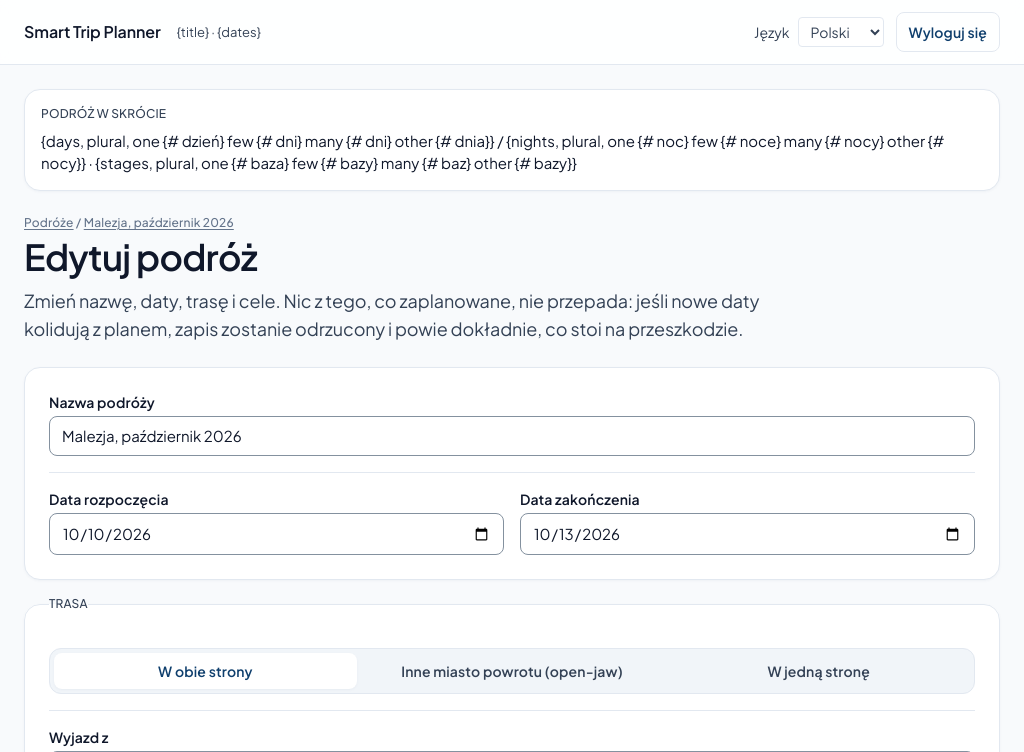
saving › returns to the timeline once the save lands
This screenshot has width=1024, height=752.
In the field labelled "Nazwa podróży": [512, 436] box [49,416,975,456], type "!"
(page scrolled)
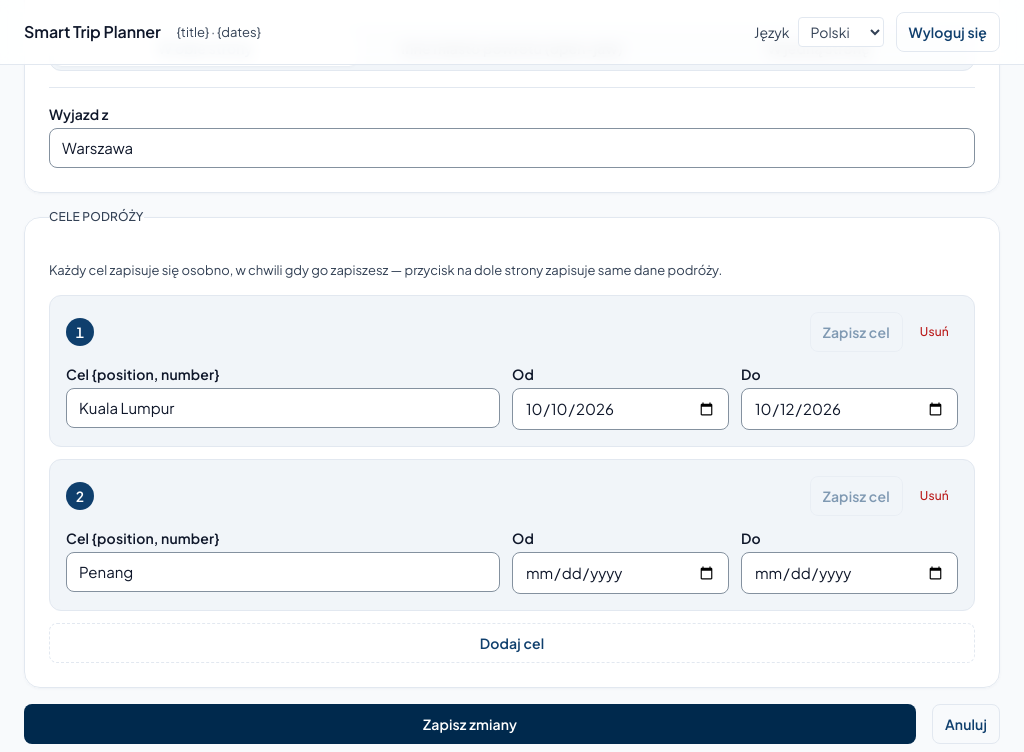
Click the button "Zapisz zmiany": [470, 724] box [24,704,916,744]
(page scrolled)
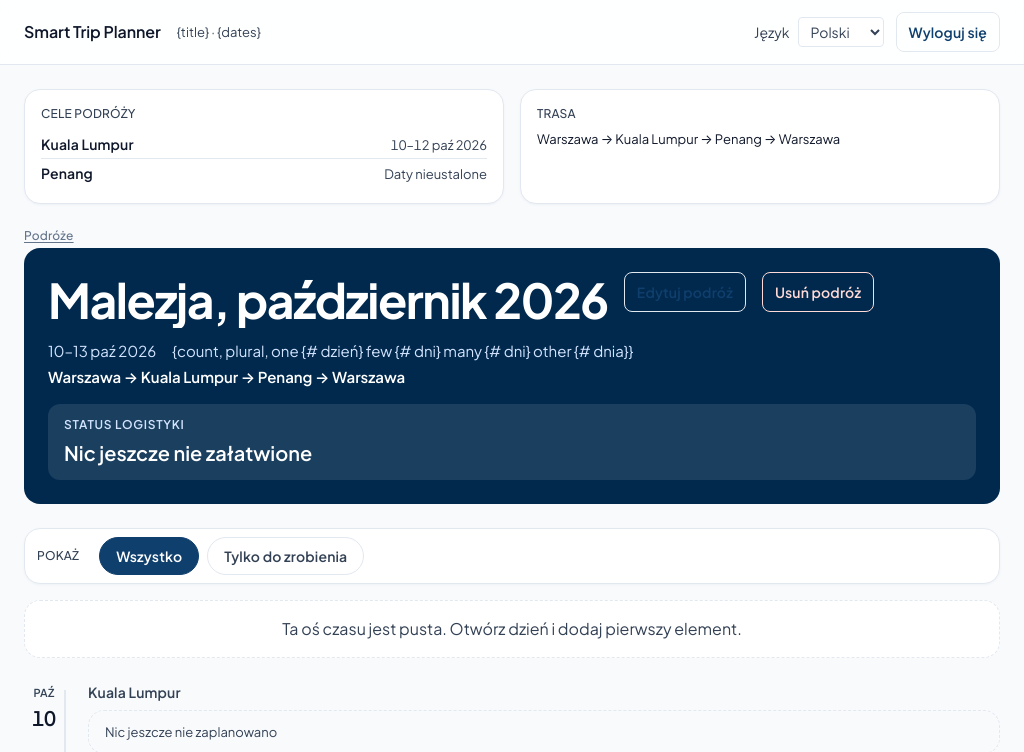
Expected: the button "Usuń podróż" is shown, [762,272,874,312]
